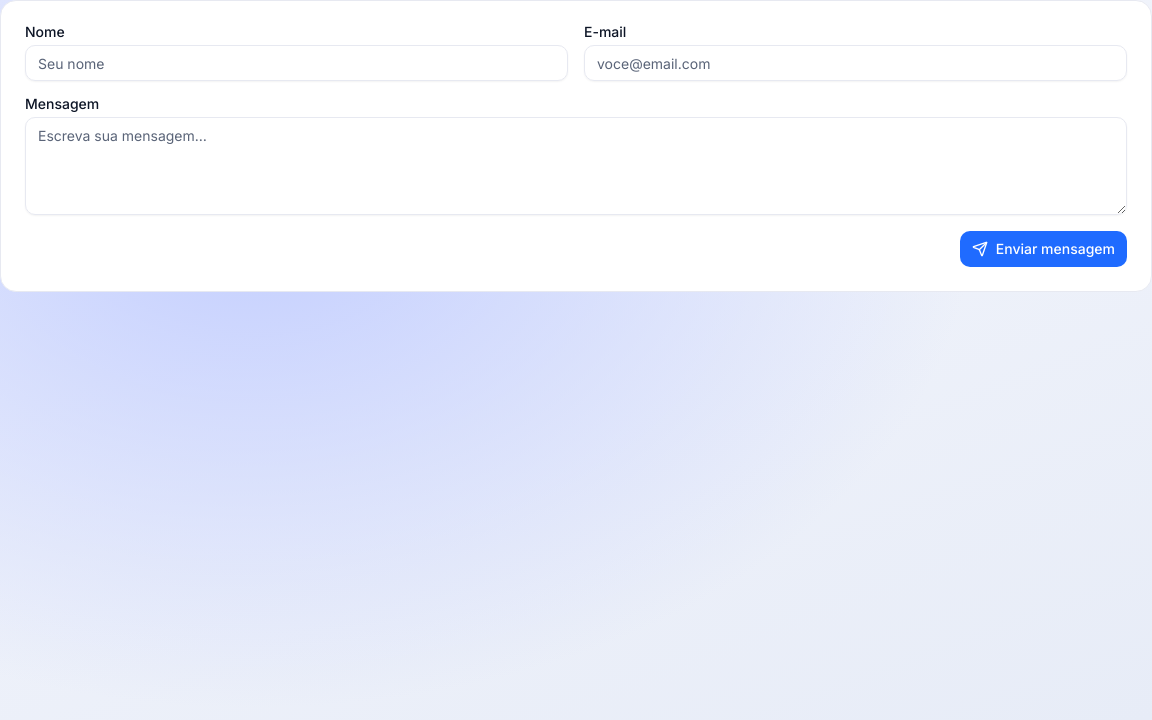
Scenario: ContactForm › exige nome e mensagem
The width and height of the screenshot is (1152, 720).
Click the button "Enviar mensagem" at coordinates (1043, 249), box [960, 231, 1127, 267]
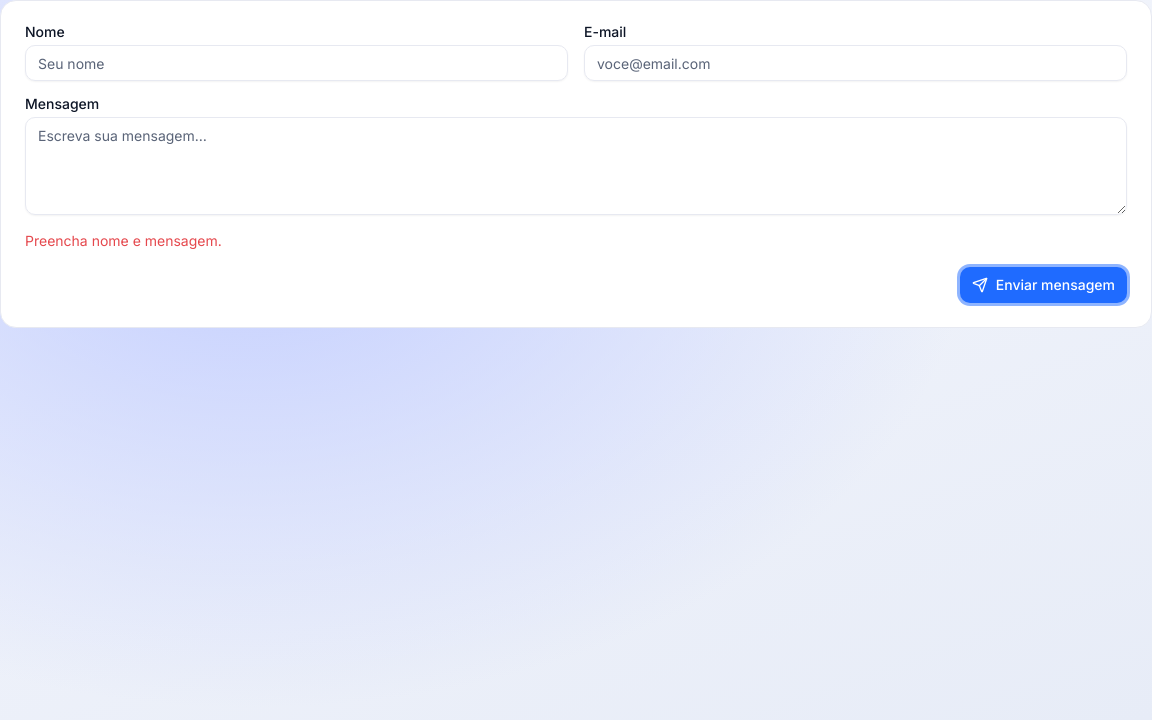
Result: the text "Preencha nome e mensagem." is shown at [25, 232, 222, 249]
